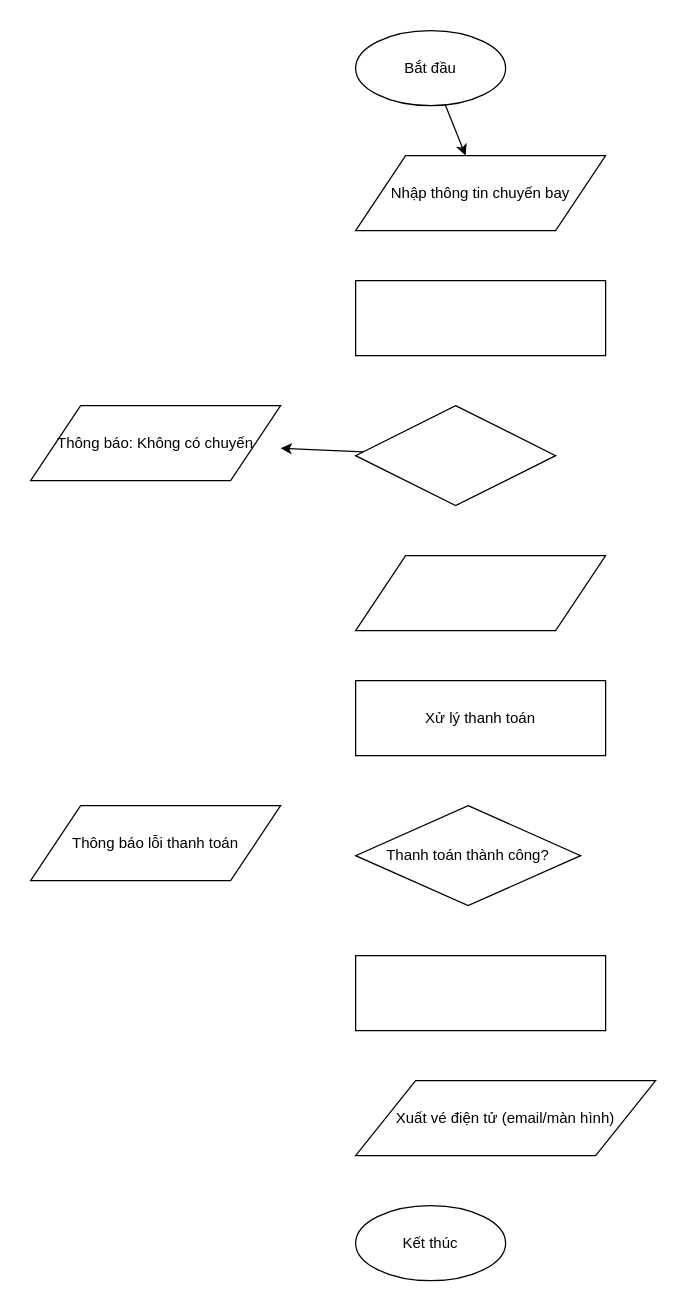
Some shapes in this 678 by 1303 pixel diagram are drawn without their labels. The box of each missing label's shape, as (x1, y1, x2, y2) in pixels:
Có chuyến phù hợp?: (354, 404, 556, 506)
Hệ thống tìm chuyến bay: (354, 279, 606, 356)
Lưu thông tin đặt vé: (354, 954, 606, 1031)
Nhập thông tin khách: (354, 554, 606, 631)
